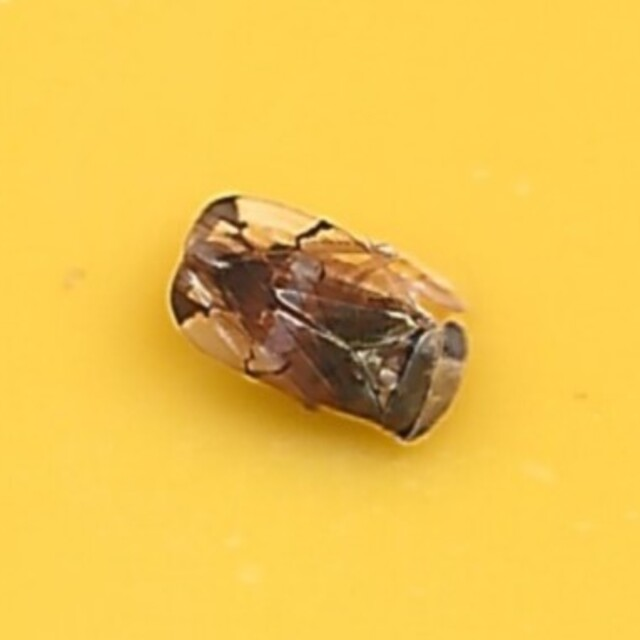Hemiptera: (167, 192, 473, 448)
